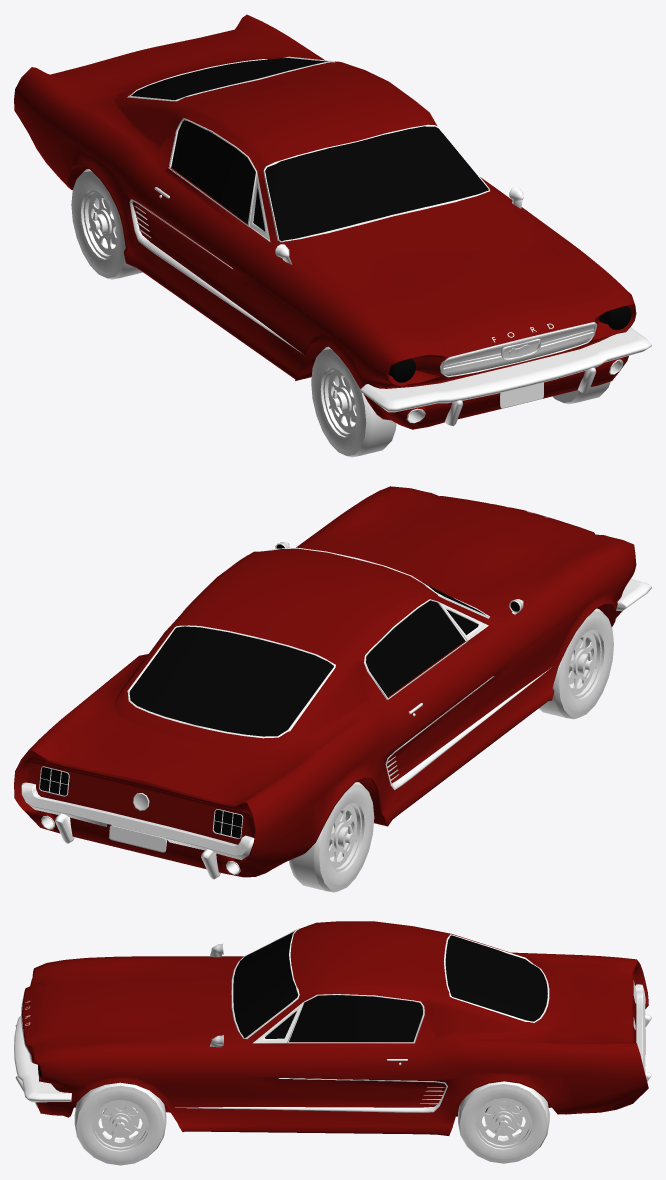
Rendered from mustang.glb.
The picture shows the model from 3 angles, top to bottom: view 1: azimuth 30°, elevation 25°; view 2: azimuth 150°, elevation 25°; view 3: azimuth 270°, elevation 25°; orthographic projection. The views are drawn at different scales.
Parts seen in each view (by area): view 1: Plane.010, Plane.000, Plane.003; view 2: Plane.010, Plane.003, Plane.000; view 3: Plane.010, Plane.015, Plane.002.
Part boxes in pixels (x1,y1,x2,y2): Plane.010: [14, 14, 651, 429]; Plane.000: [311, 346, 396, 457]; Plane.003: [71, 169, 142, 279]; Plane.010: [14, 486, 651, 879]; Plane.003: [289, 782, 374, 892]; Plane.000: [539, 608, 613, 719]; Plane.010: [14, 921, 651, 1135]; Plane.015: [74, 1082, 166, 1165]; Plane.002: [458, 1081, 549, 1163].
Bounding box in the file's own units: 2.37 × 1.8 × 6.12.
